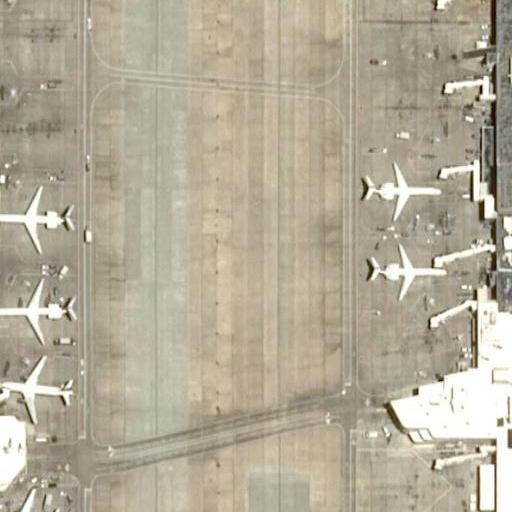Aircraft: (0, 176, 80, 259), (351, 156, 443, 224), (357, 232, 451, 297), (0, 352, 80, 424), (0, 277, 82, 345), (0, 484, 63, 512)
